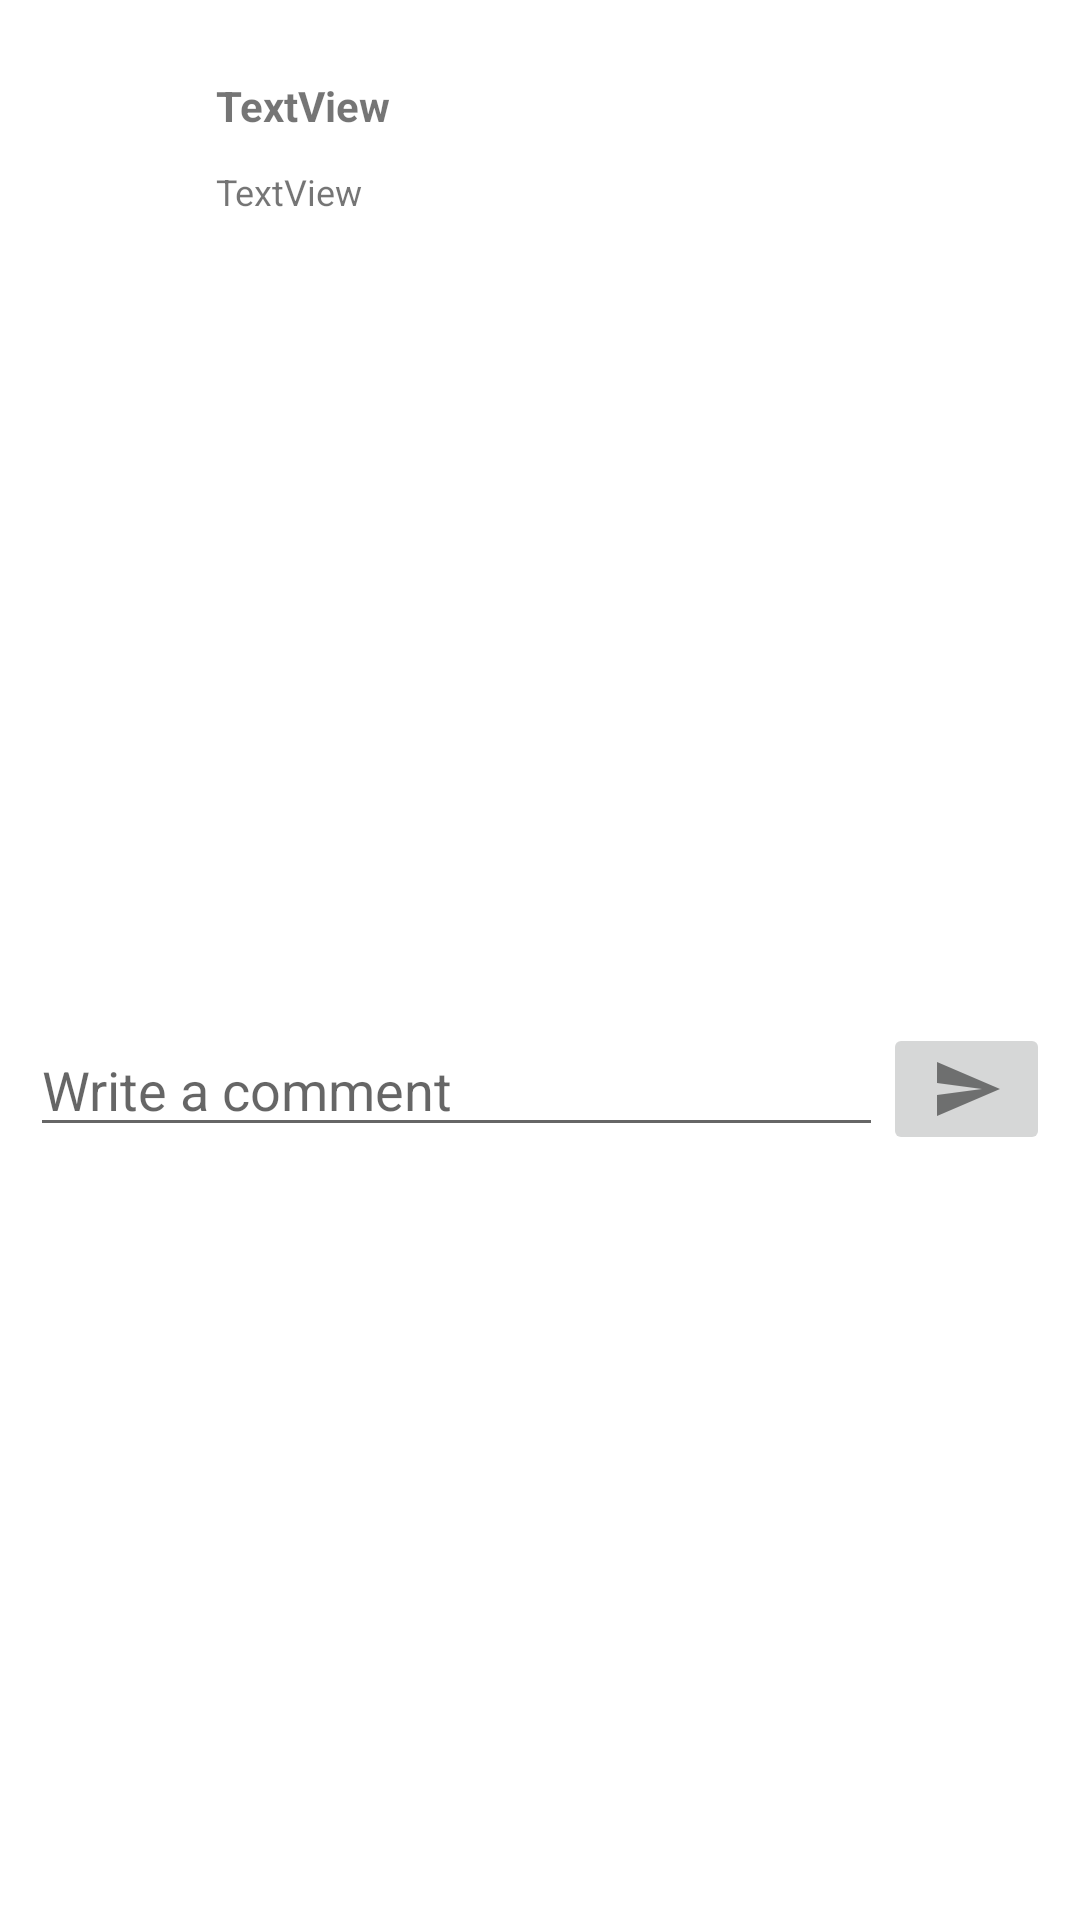

Icon bounding boxes for this 1080px x 1920px phone screenshot, format [left=x1, top=y1, right=x2, bottom=y2]:
send: [left=895, top=1041, right=1038, bottom=1137]
